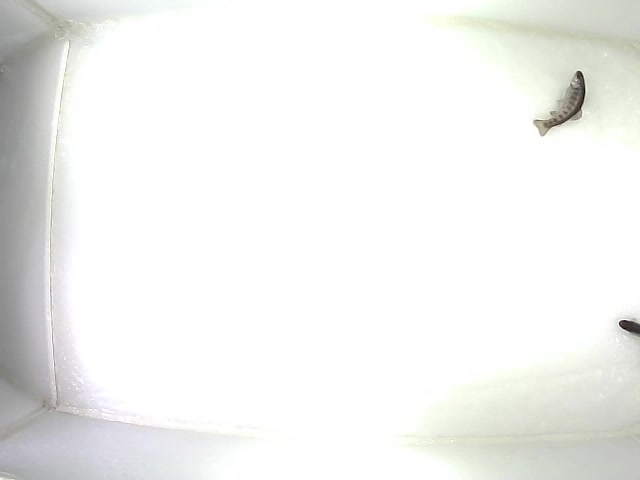fish: (531, 68, 587, 138)
